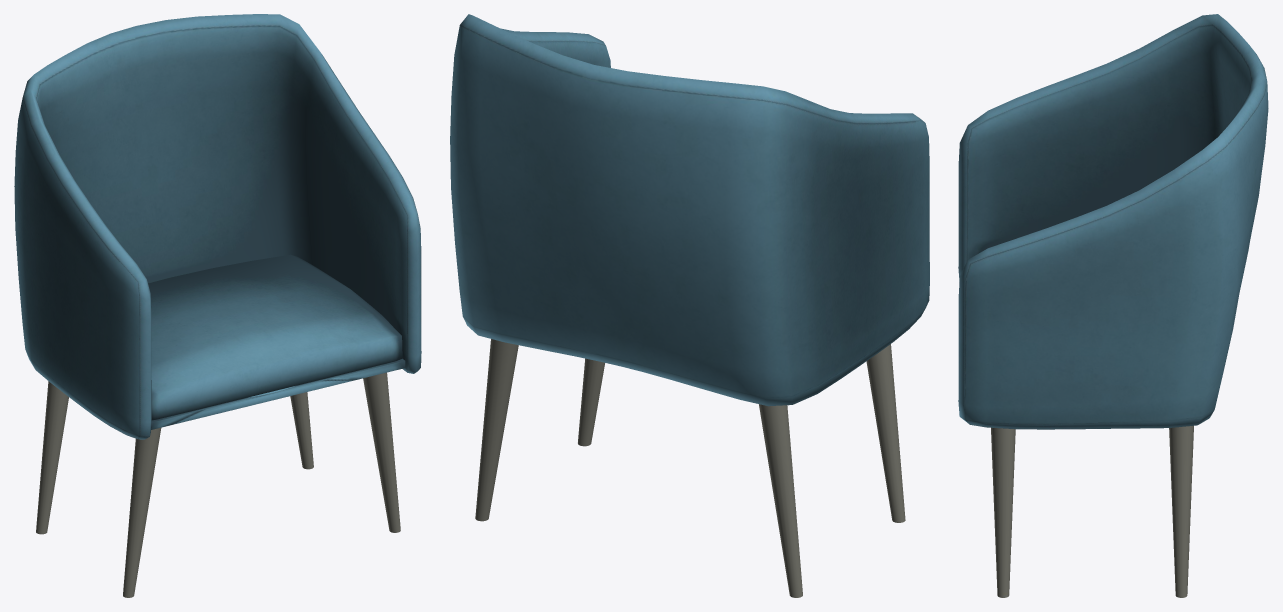
File: chair.glb
3 renders of one model, left to right at view 1: azimuth 30°, elevation 25°; view 2: azimuth 150°, elevation 25°; view 3: azimuth 270°, elevation 25°, orthographic. The views are drawn at different scales.
Visible parts, largest first — view 1: Chair-material.002; view 2: Chair-material.002; view 3: Chair-material.002.
Boxes of the visible parts, x1,y1,x2,y2 form: Chair-material.002: (14, 14, 421, 597); Chair-material.002: (450, 14, 929, 597); Chair-material.002: (958, 14, 1268, 597).
Size of the model in its own units: 1.02 by 1.43 by 0.8778.
1 material, 1 textured.
